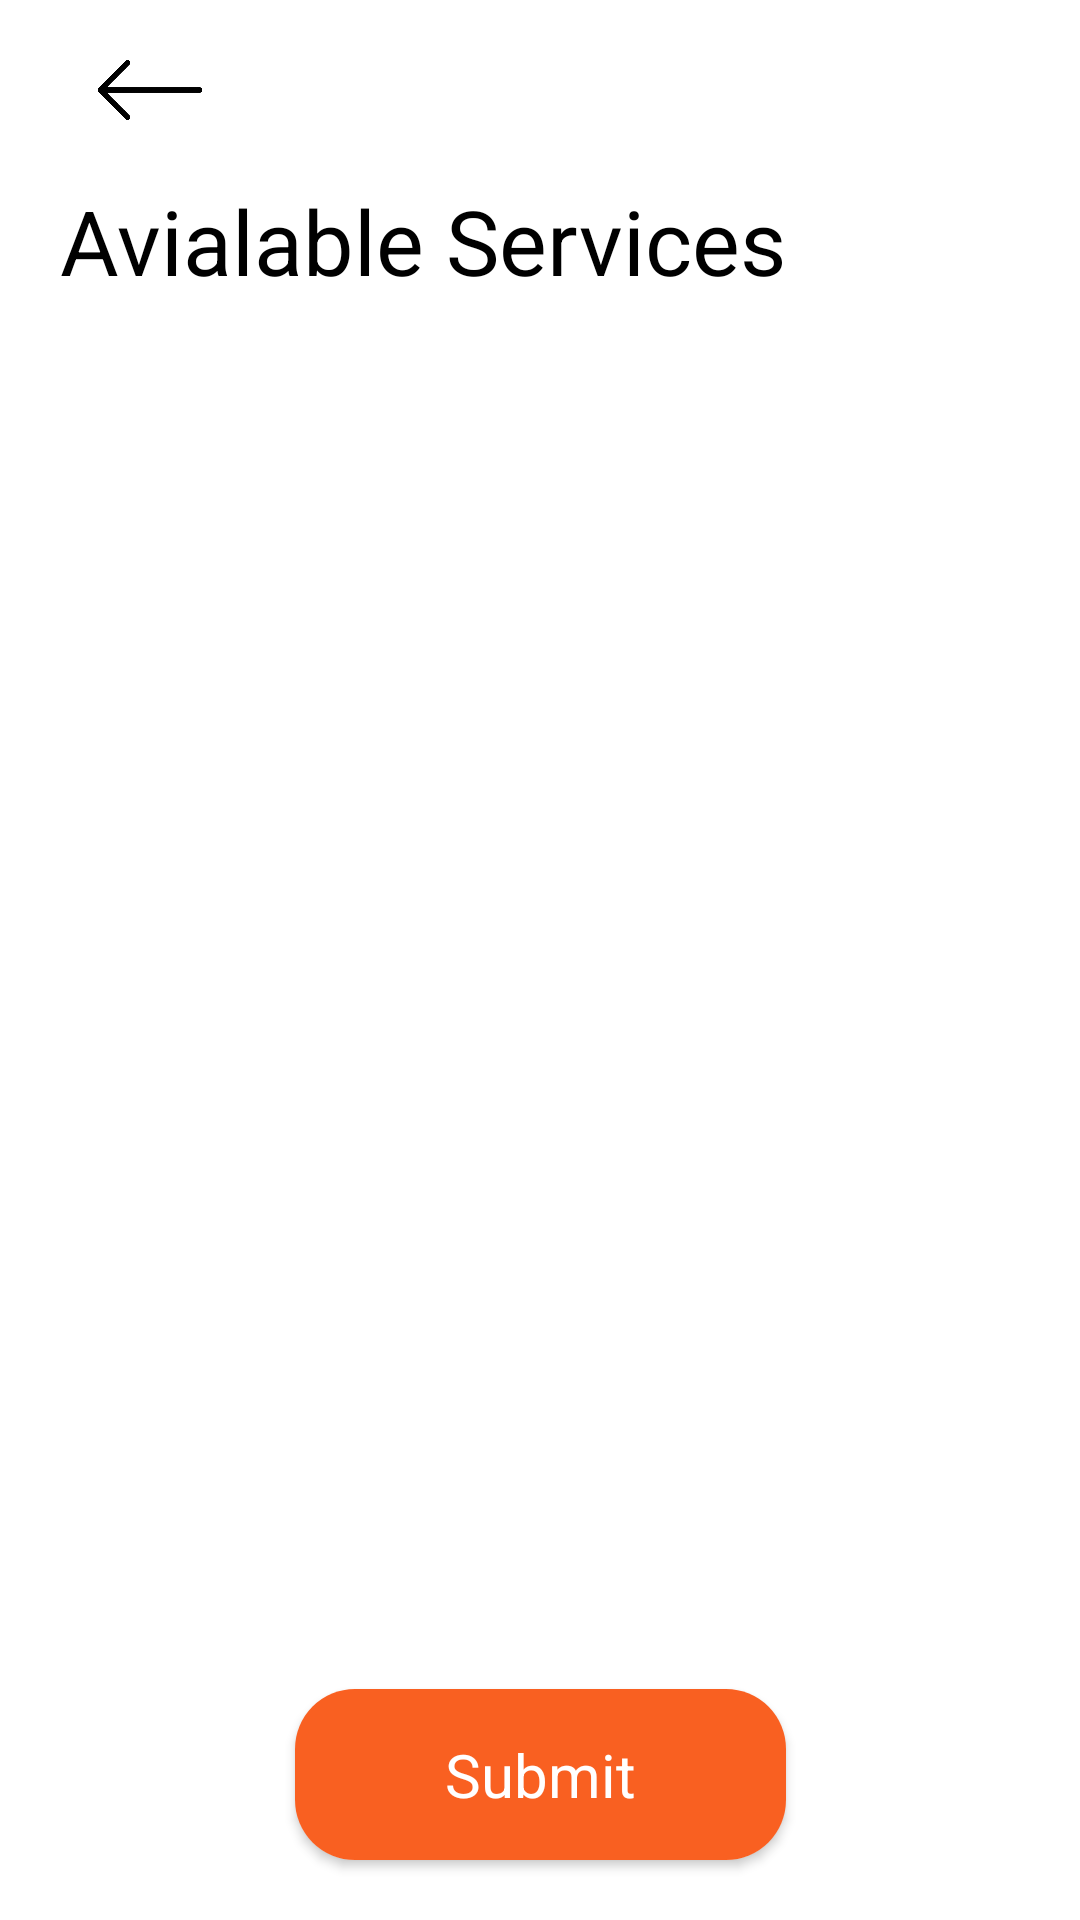

Icon bounding boxes for this 1080×1920 phone screenshot, format bbox(x1, y1, x2, y2):
leftarrow: bbox(98, 60, 202, 120)
